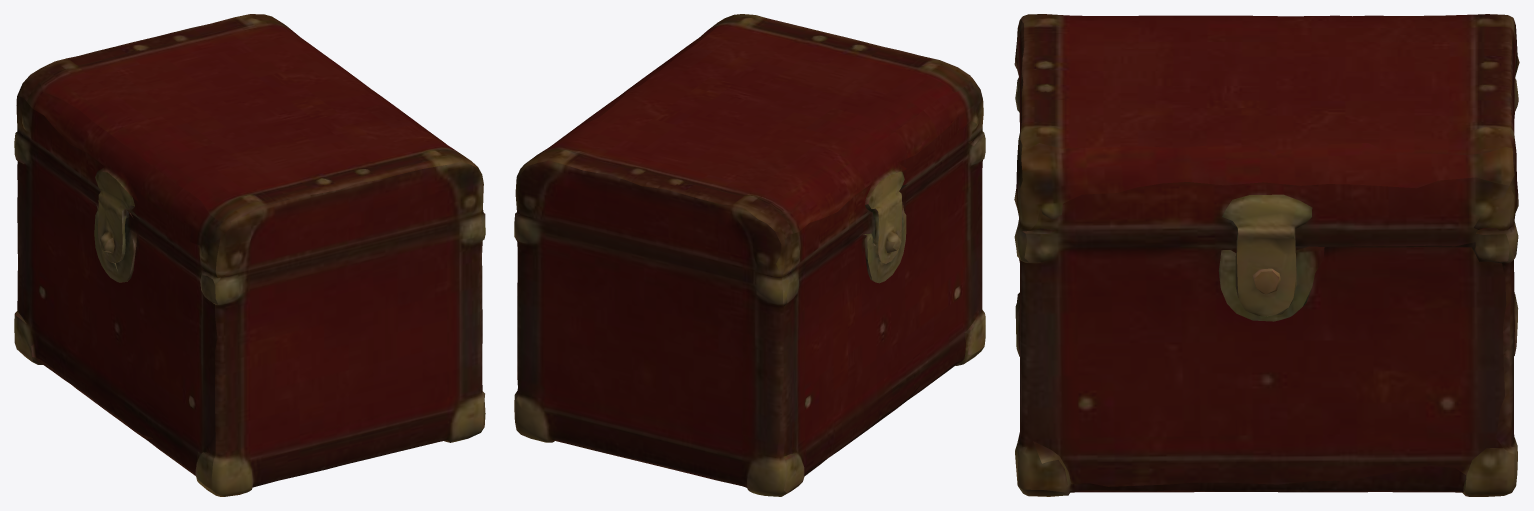
Rendered from large-dark-red-leather-t-119b314d.glb.
3 views of the same model, side by side, from view 1: azimuth 30°, elevation 25°; view 2: azimuth 150°, elevation 25°; view 3: azimuth 270°, elevation 25° (orthographic). The views are drawn at different scales.
Parts seen in each view (by area): view 1: geometry_0; view 2: geometry_0; view 3: geometry_0.
Part boxes in pixels (<box>): geometry_0: <box>14,14,485,496</box>; geometry_0: <box>514,14,985,496</box>; geometry_0: <box>1014,14,1519,496</box>.
Bounding box in the file's own units: 0.8069 × 0.7679 × 1.
1 material, 1 textured.
